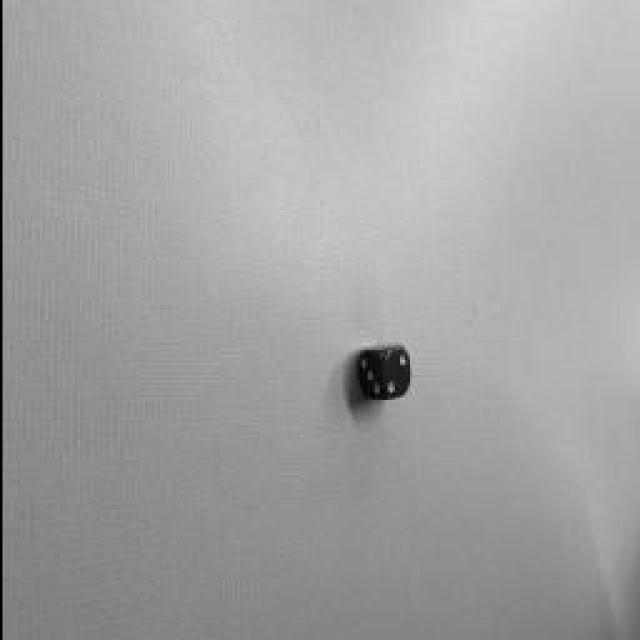dice_2: (380, 346, 410, 399)
